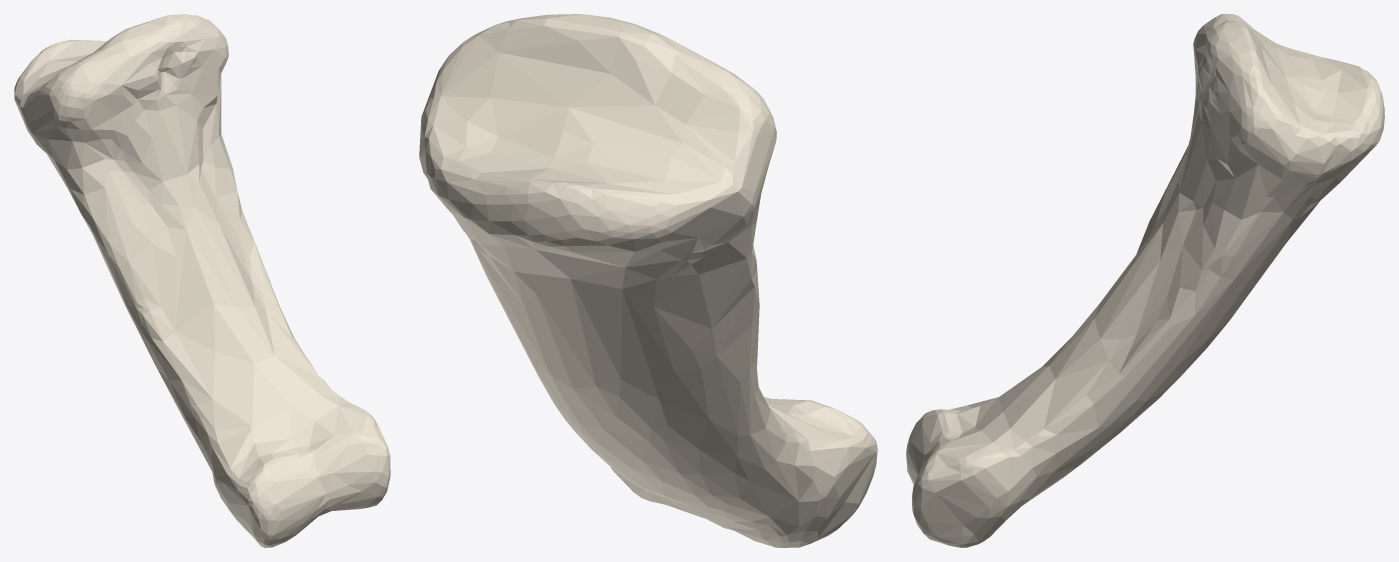
The model's file is left_middle_middle_phalanx.glb.
3 renders of one model, left to right at view 1: azimuth 30°, elevation 25°; view 2: azimuth 150°, elevation 25°; view 3: azimuth 270°, elevation 25°, orthographic. The views are drawn at different scales.
Parts seen in each view (by area): view 1: left_middle_middle_phalanx; view 2: left_middle_middle_phalanx; view 3: left_middle_middle_phalanx.
Boxes of the visible parts, x1,y1,x2,y2 form: left_middle_middle_phalanx: [14, 14, 390, 547]; left_middle_middle_phalanx: [419, 14, 877, 547]; left_middle_middle_phalanx: [906, 14, 1384, 547].
Size of the model in its own units: 0.0138 by 0.0255 by 0.0232.
